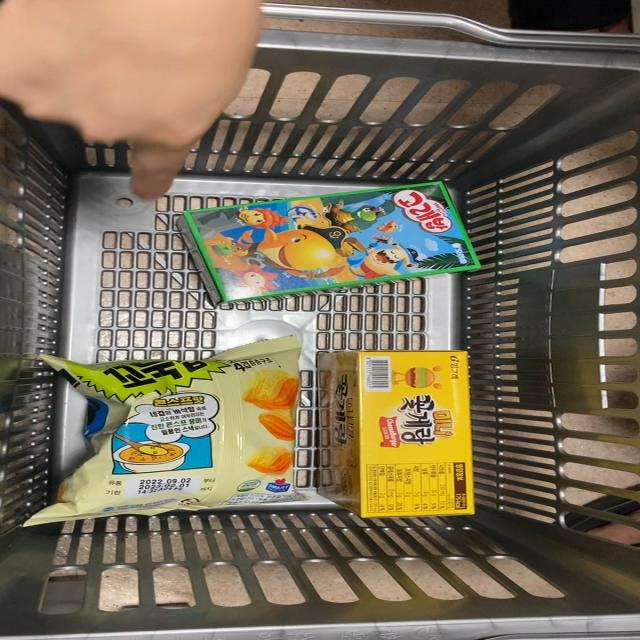ggobukchip: (21, 322, 316, 530)
goraebob: (169, 170, 498, 304)
minicrab: (313, 345, 483, 529)
